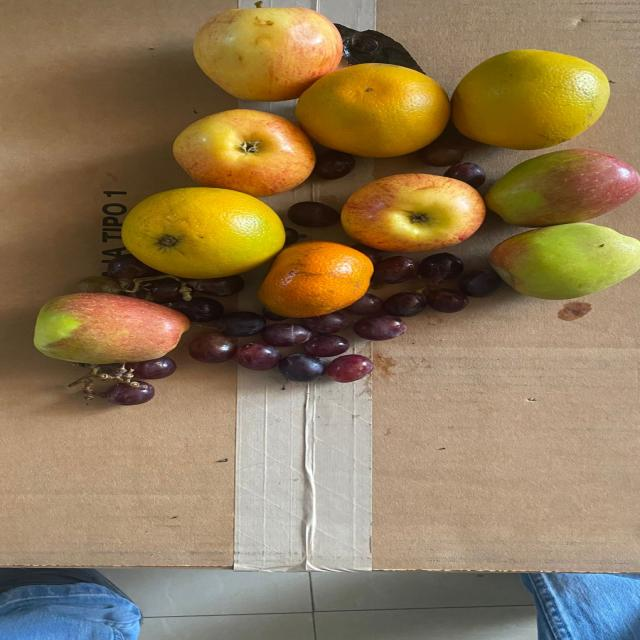bolsa_negra: (334, 21, 433, 75)
